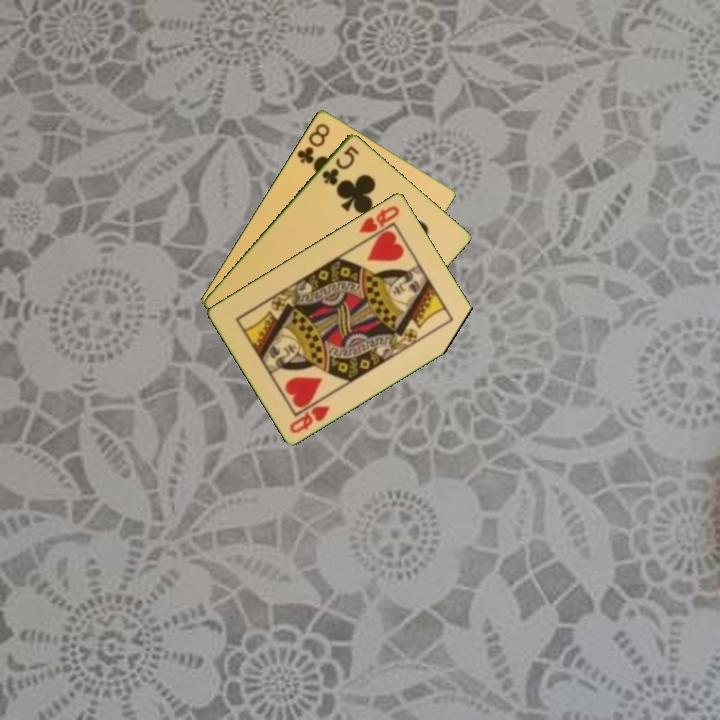5c: (318, 142, 362, 188)
8c: (293, 119, 333, 166)
Qh: (355, 202, 402, 244), (286, 402, 333, 436)
